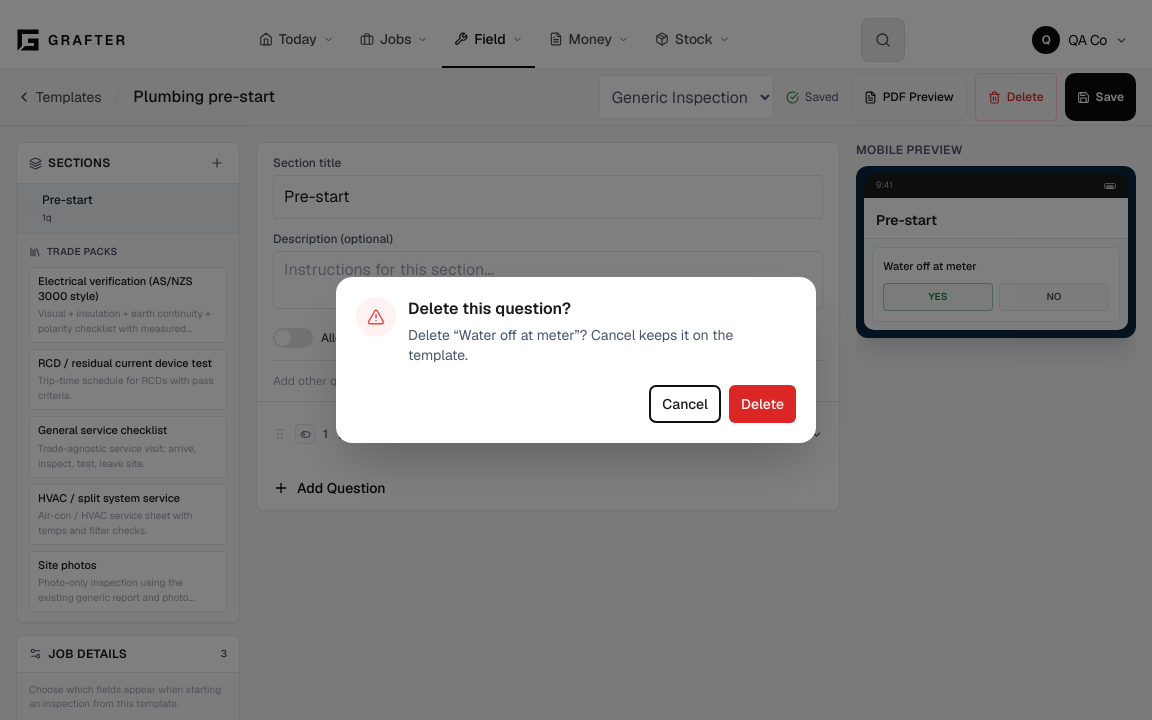
template editor leave and question delete › does not remove a question until Delete is confirmed
The image size is (1152, 720).
Earlier steps of the test are not shown.
Click the button "Delete".
click(762, 404)  # box [729,385,796,423]
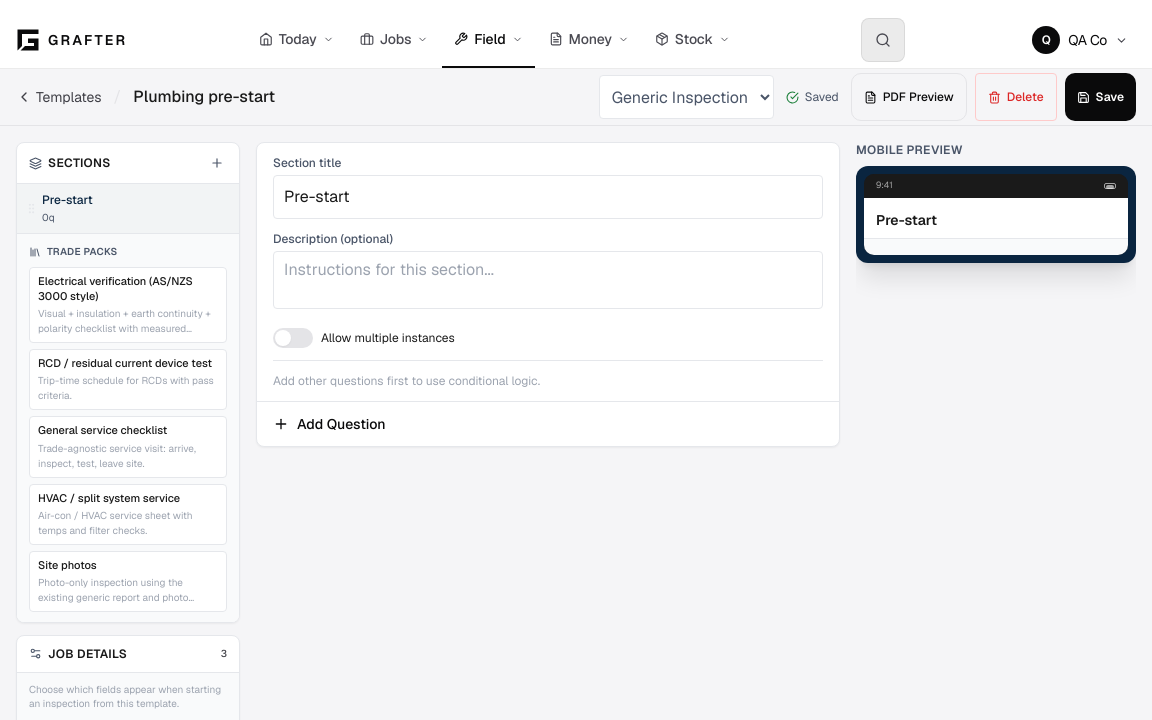
Check: the text "Water off at meter" is gone
